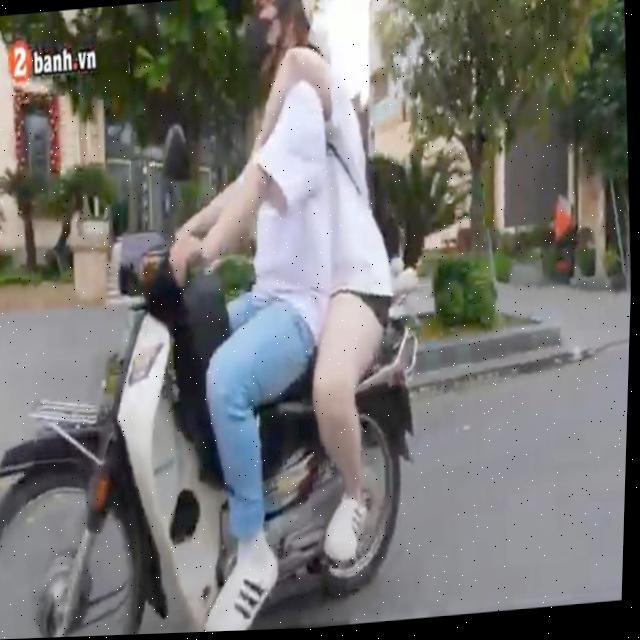motorcycle: (0, 191, 442, 640)
